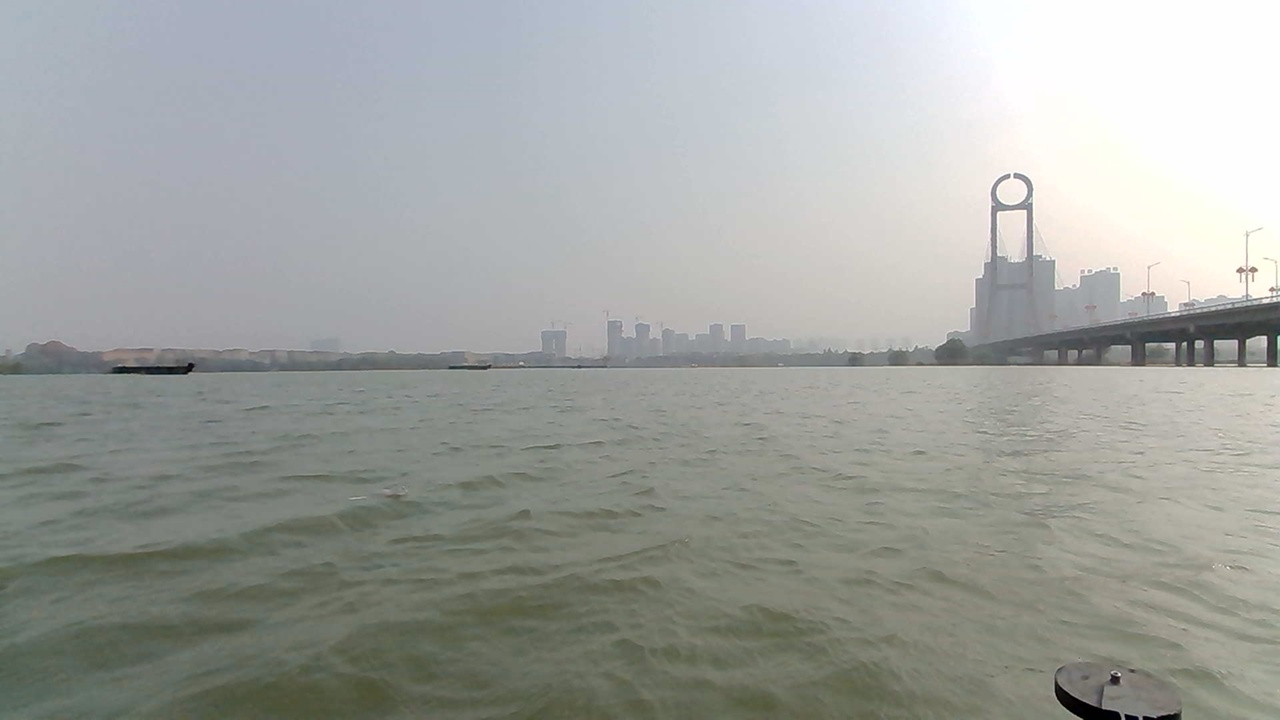bottle: (339, 468, 465, 533)
